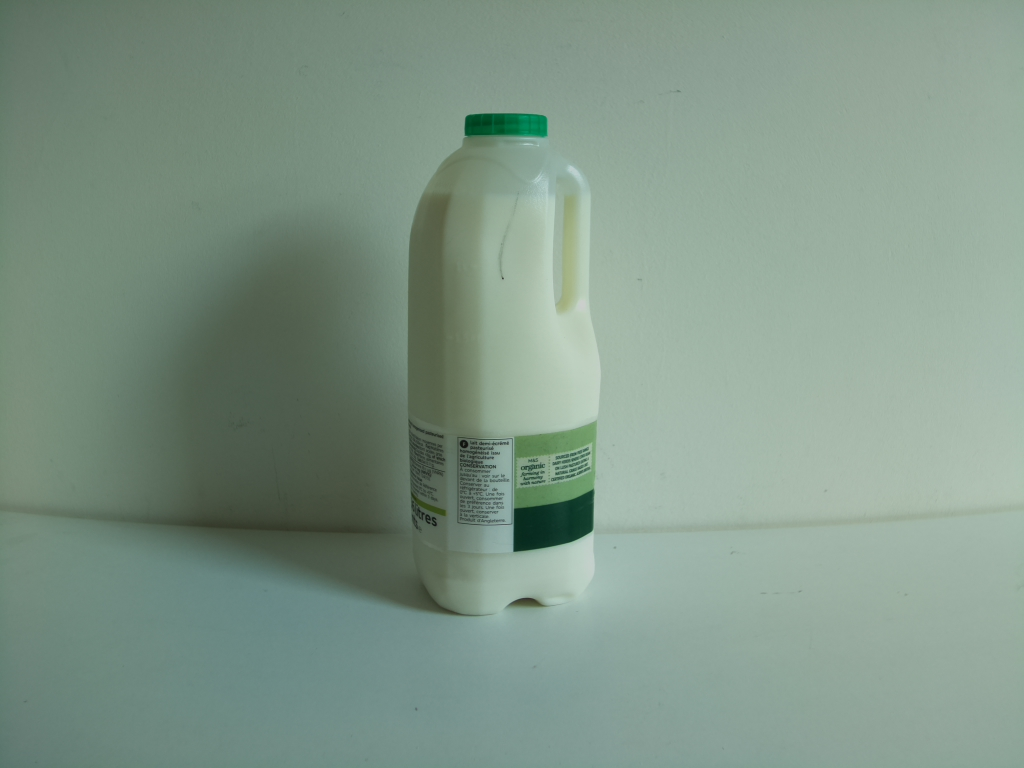milk: (405, 112, 608, 619)
